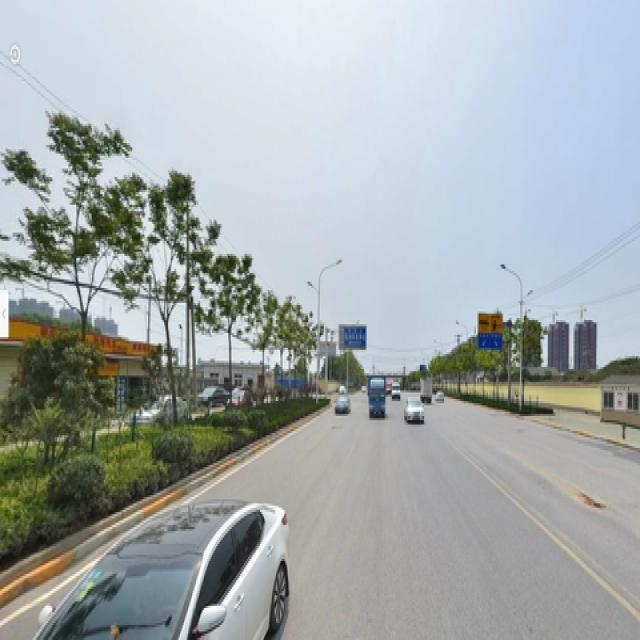koel: (121, 186, 187, 410), (38, 150, 110, 342), (208, 252, 247, 407)
